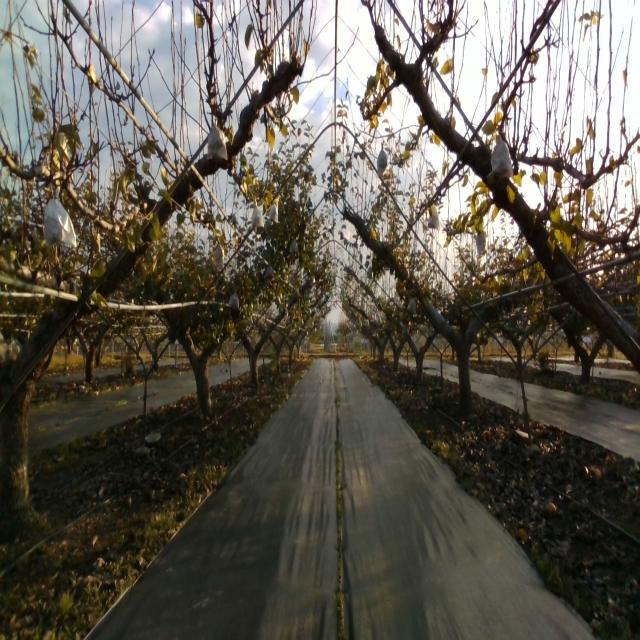pearbags: (44, 184, 78, 248), (486, 134, 513, 180), (206, 116, 228, 161), (250, 200, 265, 228), (377, 142, 388, 178), (212, 240, 225, 270), (428, 205, 439, 228), (228, 290, 240, 311), (268, 202, 279, 224), (476, 230, 486, 254)
